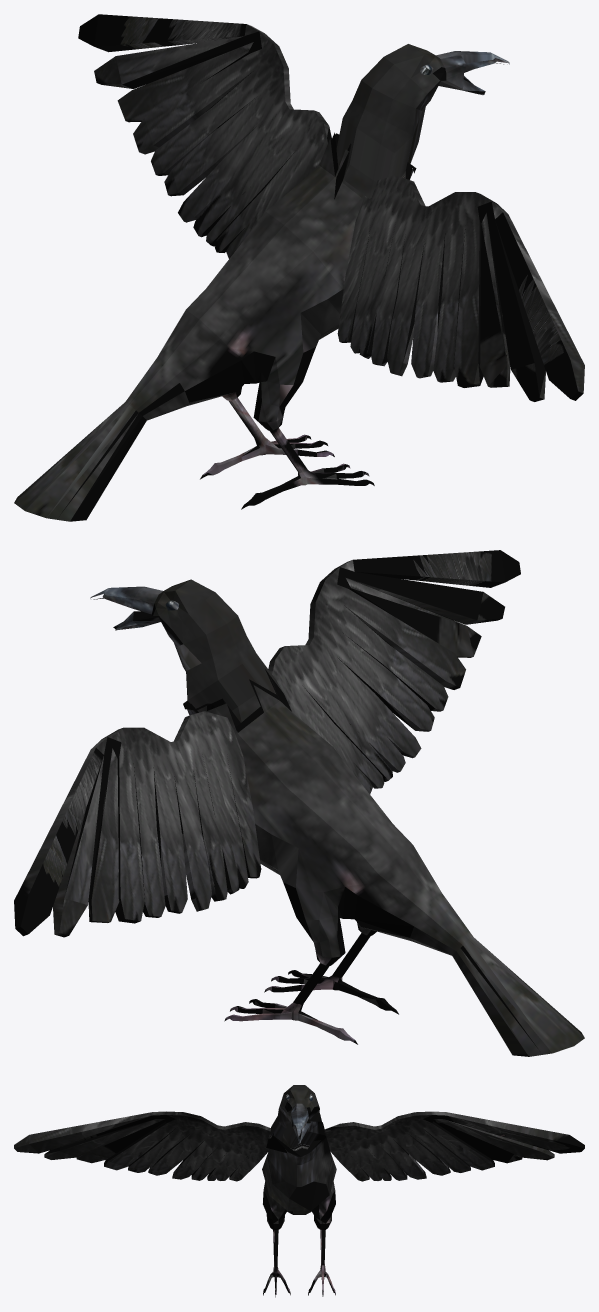
The model's file is CrowBent0_000020.obj.
3 renders of one model, top to bottom at view 1: azimuth 30°, elevation 25°; view 2: azimuth 150°, elevation 25°; view 3: azimuth 270°, elevation 25°, orthographic. The views are drawn at different scales.
Parts seen in each view (by area): view 1: Cylinder.009, Cylinder.003, Cylinder.002, Cylinder.001; view 2: Cylinder.009, Cylinder.002, Cylinder.003, Cylinder.001; view 3: Cylinder.002, Cylinder.003, Cylinder.009, Cylinder.001.
Part boxes in pixels (x1,y1,x2,y2): Cylinder.009: [14, 138, 413, 521]; Cylinder.003: [337, 175, 584, 401]; Cylinder.002: [78, 14, 331, 258]; Cylinder.001: [330, 44, 509, 199]; Cylinder.009: [187, 674, 584, 1056]; Cylinder.002: [14, 711, 261, 937]; Cylinder.003: [268, 550, 520, 794]; Cylinder.001: [90, 579, 291, 732]; Cylinder.002: [324, 1111, 584, 1181]; Cylinder.003: [14, 1111, 270, 1181]; Cylinder.009: [262, 1137, 336, 1297]; Cylinder.001: [266, 1085, 326, 1156].
Bounding box in the file's own units: 5.29 × 4.1 × 9.33.
Materials: 4 (4 with a texture image).
